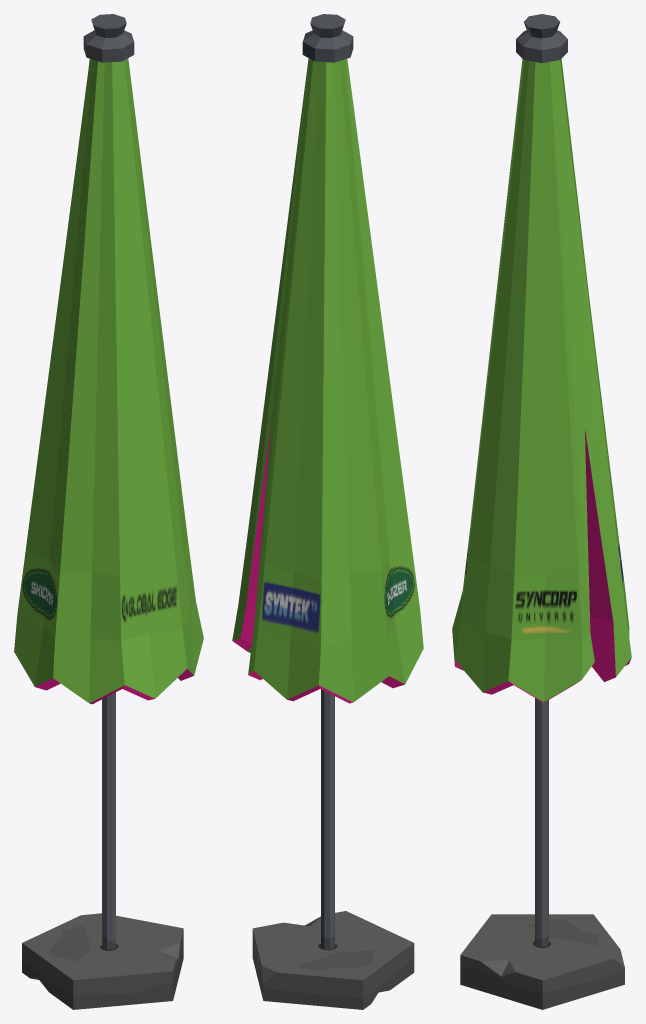
File: SM_Prop_Umbrella_02.fbx
The picture shows the model from 3 angles, left to right: view 1: azimuth 30°, elevation 25°; view 2: azimuth 150°, elevation 25°; view 3: azimuth 270°, elevation 25°; orthographic projection.
Parts seen in each view (by area): view 1: SM_Prop_Umbrella_02; view 2: SM_Prop_Umbrella_02; view 3: SM_Prop_Umbrella_02.
Part boxes in pixels (left/top/right/bottom): SM_Prop_Umbrella_02: left=14, top=14, right=203, bottom=1009; SM_Prop_Umbrella_02: left=232, top=14, right=423, bottom=1009; SM_Prop_Umbrella_02: left=452, top=14, right=631, bottom=1009.
Bounding box in the file's own units: 50.17 × 293 × 50.17.
